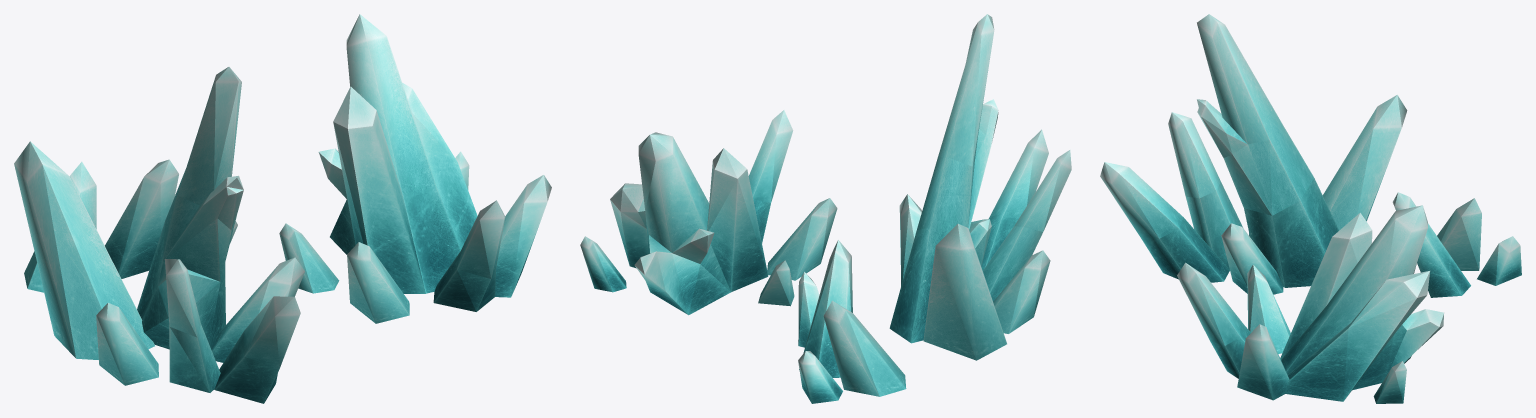
File: feng_sha_tan_03.FBX
The picture shows the model from 3 angles, left to right: view 1: azimuth 30°, elevation 25°; view 2: azimuth 150°, elevation 25°; view 3: azimuth 270°, elevation 25°; orthographic projection. The views are drawn at different scales.
Visible parts, largest first — view 1: polySurface2, polySurface1; view 2: polySurface2, polySurface1; view 3: polySurface2, polySurface1.
Boxes of the visible parts, bbox=[...] form: polySurface2: bbox=[14, 67, 304, 403]; polySurface1: bbox=[279, 14, 551, 323]; polySurface2: bbox=[798, 14, 1071, 403]; polySurface1: bbox=[580, 110, 837, 315]; polySurface2: bbox=[1100, 14, 1521, 297]; polySurface1: bbox=[1177, 205, 1443, 403].
Size of the model in its own units: 310 by 208 by 309.
Materials: 1 (1 with a texture image).
